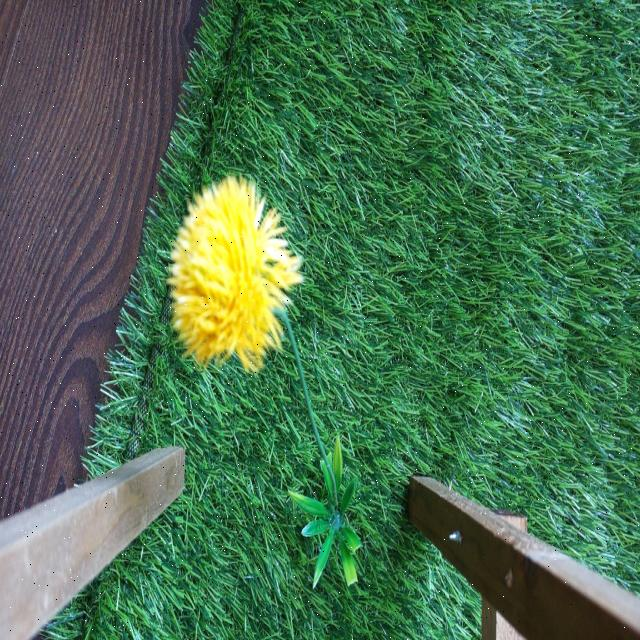base: (288, 434, 364, 589)
flower: (170, 173, 302, 371)
